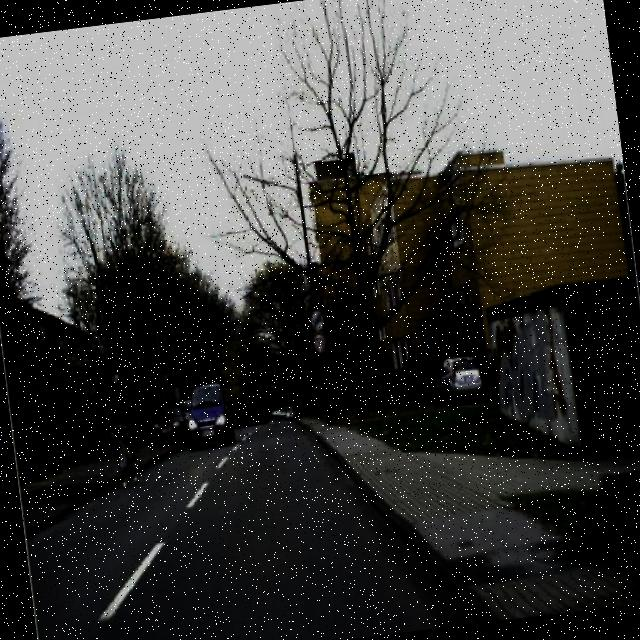Ograniczenie predkosci do 50: (308, 326, 330, 356)
